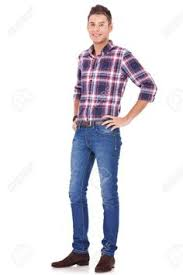standing: (48, 4, 161, 274)
